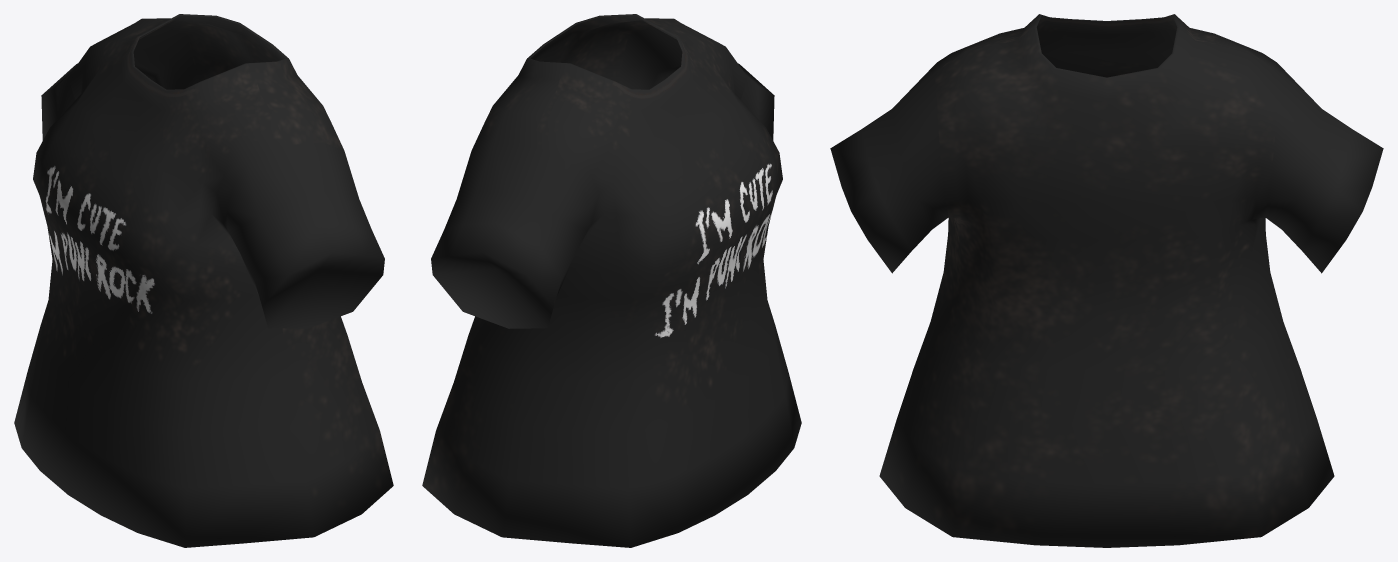
Rendered from shirt_punkrock.gltf.
The picture shows the model from 3 angles, left to right: view 1: azimuth 30°, elevation 25°; view 2: azimuth 150°, elevation 25°; view 3: azimuth 270°, elevation 25°; orthographic projection. The views are drawn at different scales.
Visible parts, largest first — view 1: Tshirt; view 2: Tshirt; view 3: Tshirt.
Boxes of the visible parts, x1,y1,x2,y2 form: Tshirt: (14, 14, 393, 547); Tshirt: (422, 14, 801, 547); Tshirt: (830, 14, 1383, 547).
Bounding box in the file's own units: 0.2398 × 0.3579 × 0.3941.
Materials: 1 (1 with a texture image).
